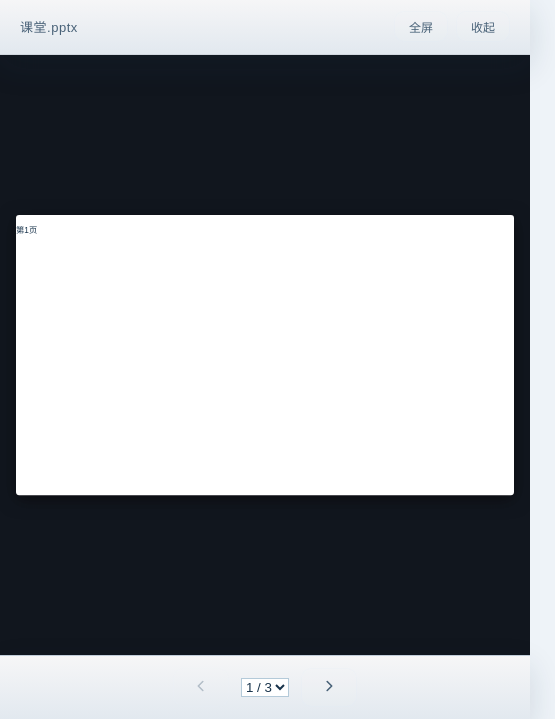
Test: PptViewer keyboard ownership › jumps through the compact pager and leaves its focused keys with the select
Expected: the button named "上一页" is disabled, [173,668,229,707]
Select "3 / 3" in the dropdown named "跳转幻灯片". click: (265, 688)
box: [241,678,289,697]
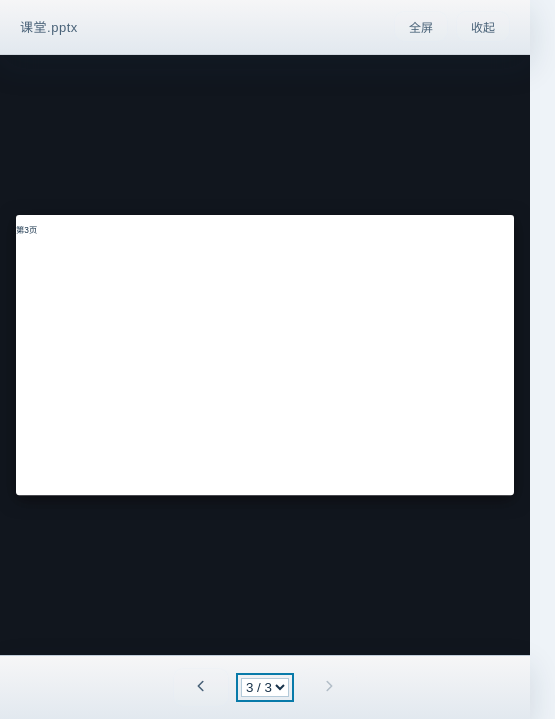
Expected: the button named "下一页" is disabled, [301,668,357,707]
Expected: the text "第3页" is shown, [16,226,37,235]
Press ArrowLeft in the dropdown named "跳转幻灯片", box [241,678,289,697]
Press Home in the dropdown named "跳转幻灯片", box [241,678,289,697]
Press Space in the dropdown named "跳转幻灯片", box [241,678,289,697]
Press Escape in the dropdown named "跳转幻灯片", box [241,678,289,697]
Expected: the text "第3页" is shown, [16,226,37,235]
Click the button named "上一页". click: (201, 688)
box: [173,668,229,707]
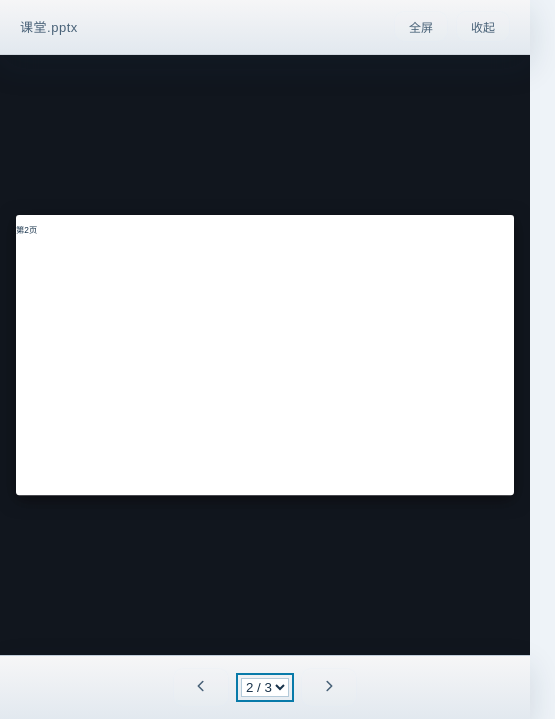
Expected: the text "第2页" is shown, [16,226,37,235]
